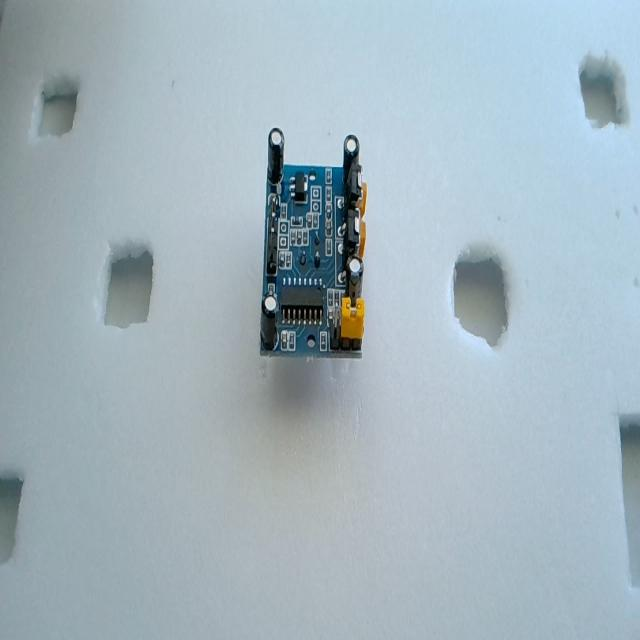Electrolytic capacitor: (267, 128, 285, 186), (260, 296, 278, 351), (343, 134, 360, 187), (346, 258, 363, 302)
IC: (279, 286, 323, 327)
pinheader: (262, 188, 285, 277)
